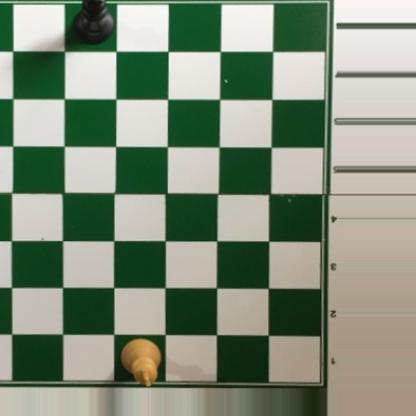black-king: (72, 0, 116, 47)
white-king: (118, 337, 162, 388)
